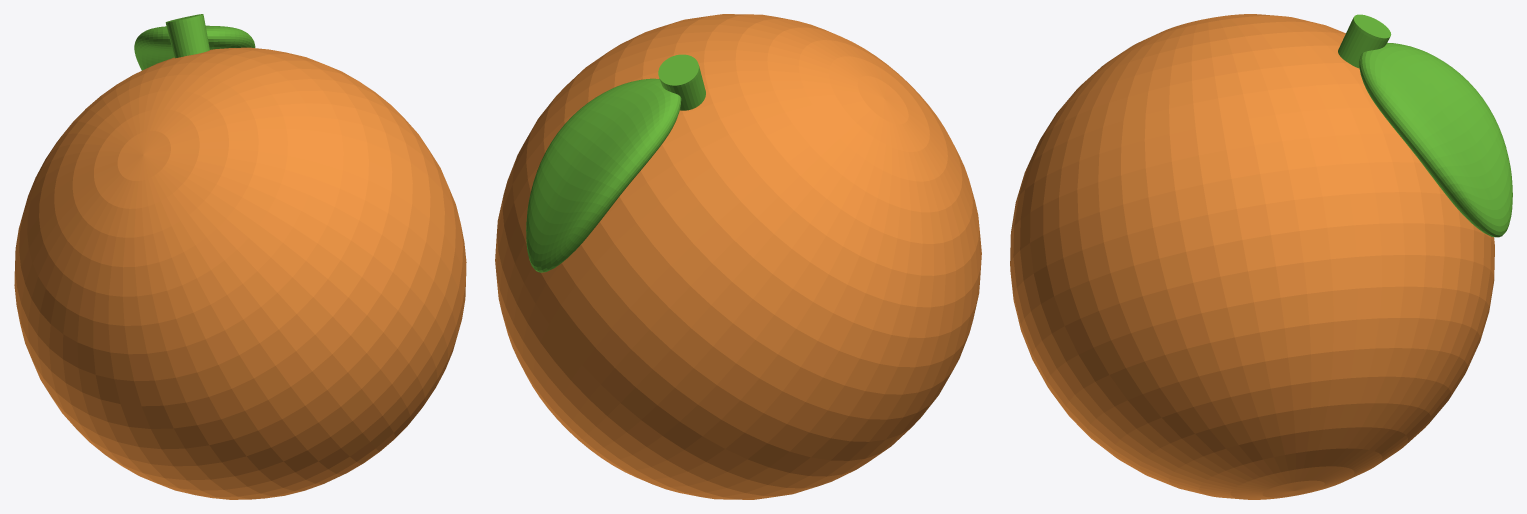
The model's file is orange.glb.
The picture shows the model from 3 angles, left to right: view 1: azimuth 30°, elevation 25°; view 2: azimuth 150°, elevation 25°; view 3: azimuth 270°, elevation 25°; orthographic projection. The views are drawn at different scales.
Visible parts, largest first — view 1: orange; view 2: orange; view 3: orange.
Part boxes in pixels (x1,y1,x2,y2): orange: [14, 14, 466, 499]; orange: [495, 14, 981, 499]; orange: [1010, 14, 1512, 499].
Size of the model in its own units: 0.117 by 0.1219 by 0.1212.
